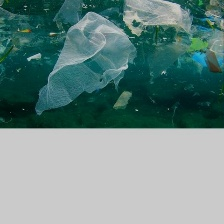plastic_bag: (31, 10, 140, 118), (118, 0, 198, 35), (145, 38, 192, 83), (50, 0, 84, 26)
